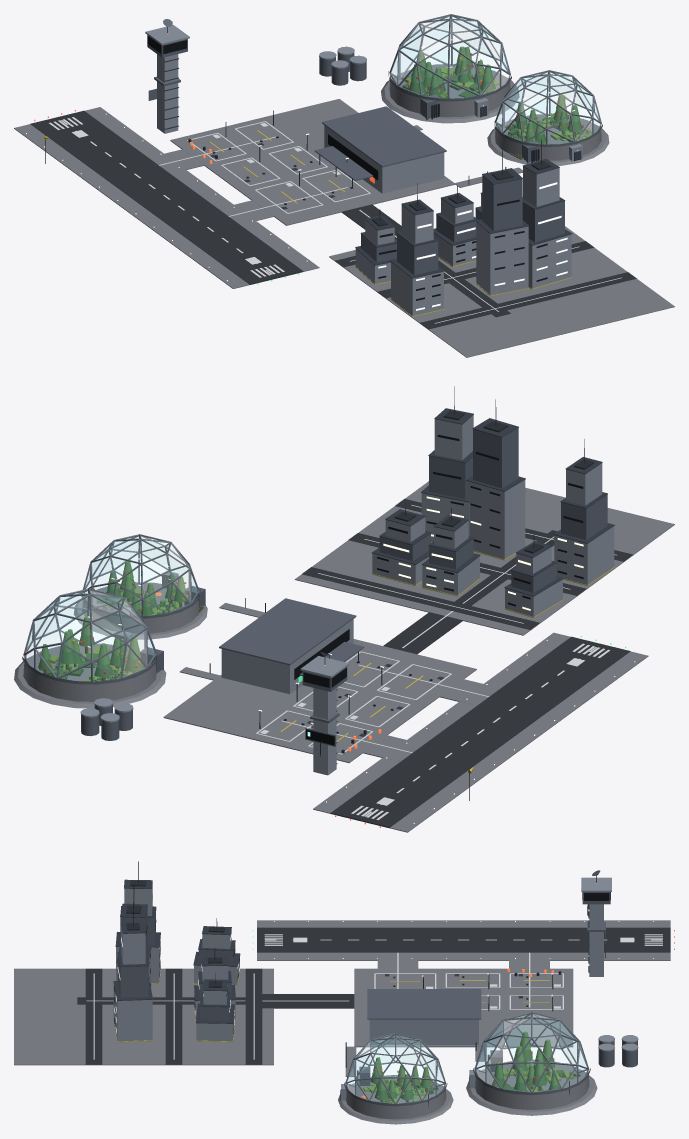
File: city-port-m.glb
3 renders of one model, top to bottom at view 1: azimuth 30°, elevation 25°; view 2: azimuth 150°, elevation 25°; view 3: azimuth 270°, elevation 25°, orthographic. The views are drawn at different scales.
Parts seen in each view (by area): view 1: apron, cityPlaza, strip, dome0Glazing, terminalRoof, stripShoulder1, dome1Glazing, city4Mass0, stripShoulder0, terminal, city3Mass0, cityRoad2 (+25 smaller); view 2: apron, strip, cityPlaza, dome0Glazing, terminalRoof, stripShoulder1, dome1Glazing, city4Mass0, stripShoulder0, terminal, city3Mass0, dome0StemWall (+25 smaller); view 3: cityPlaza, strip, apron, dome0Glazing, dome1Glazing, terminalRoof, stripShoulder1, stripShoulder0, terminal, dome0StemWall, dome0Kerb, cityRoad0 (+19 smaller).
Boxes of the visible parts, left/top/right/bottom form: apron: left=170, top=99, right=455, bottom=225; cityPlaza: left=329, top=226, right=674, bottom=357; strip: left=30, top=110, right=303, bottom=284; dome0Glazing: left=400, top=16, right=508, bottom=97; terminalRoof: left=322, top=106, right=446, bottom=167; stripShoulder1: left=14, top=124, right=249, bottom=288; dome1Glazing: left=496, top=72, right=599, bottom=143; city4Mass0: left=476, top=222, right=528, bottom=296; stripShoulder0: left=84, top=107, right=319, bottom=271; terminal: left=324, top=125, right=444, bottom=193; city3Mass0: left=391, top=262, right=443, bottom=316; cityRoad2: left=420, top=272, right=636, bottom=329; apron: left=163, top=639, right=476, bottom=762; strip: left=330, top=636, right=630, bottom=828; cityPlaza: left=294, top=481, right=674, bottom=635; dome0Glazing: left=26, top=590, right=154, bottom=680; terminalRoof: left=219, top=598, right=356, bottom=665; stripShoulder1: left=390, top=651, right=648, bottom=832; dome1Glazing: left=84, top=536, right=197, bottom=615; city4Mass0: left=466, top=480, right=525, bottom=560; stripShoulder0: left=313, top=632, right=570, bottom=813; terminal: left=221, top=619, right=353, bottom=694; city3Mass0: left=554, top=526, right=614, bottom=585; dome0StemWall: left=23, top=657, right=156, bottom=701; cityPlaza: left=14, top=968, right=273, bottom=1065; strip: left=257, top=927, right=670, bottom=952; apron: left=354, top=968, right=573, bottom=1047; dome0Glazing: left=476, top=1014, right=586, bottom=1091; dome1Glazing: left=347, top=1035, right=444, bottom=1102; terminalRoof: left=367, top=989, right=481, bottom=1019; stripShoulder1: left=257, top=920, right=670, bottom=927; stripShoulder0: left=257, top=952, right=670, bottom=960; terminal: left=369, top=1019, right=478, bottom=1044; dome0StemWall: left=475, top=1070, right=589, bottom=1110; dome0Kerb: left=466, top=1059, right=597, bottom=1115; cityRoad0: left=245, top=968, right=262, bottom=1064.
Size of the model in its own units: 149 by 43.37 by 198.
